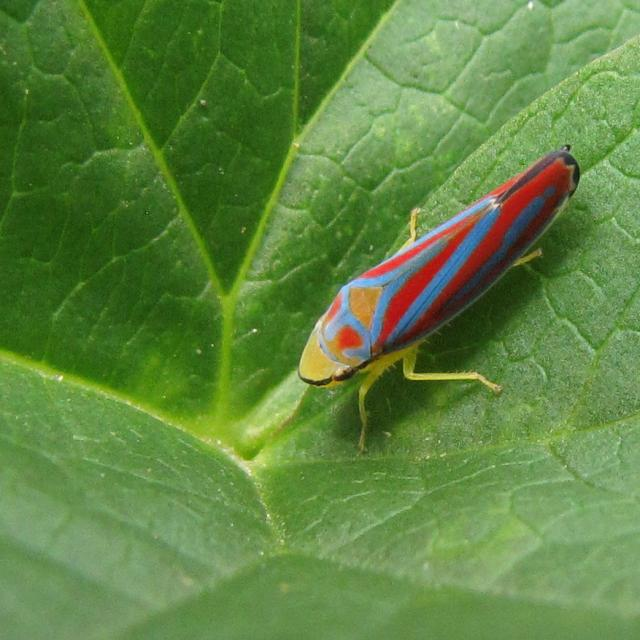Yechan: (278, 133, 596, 414)
